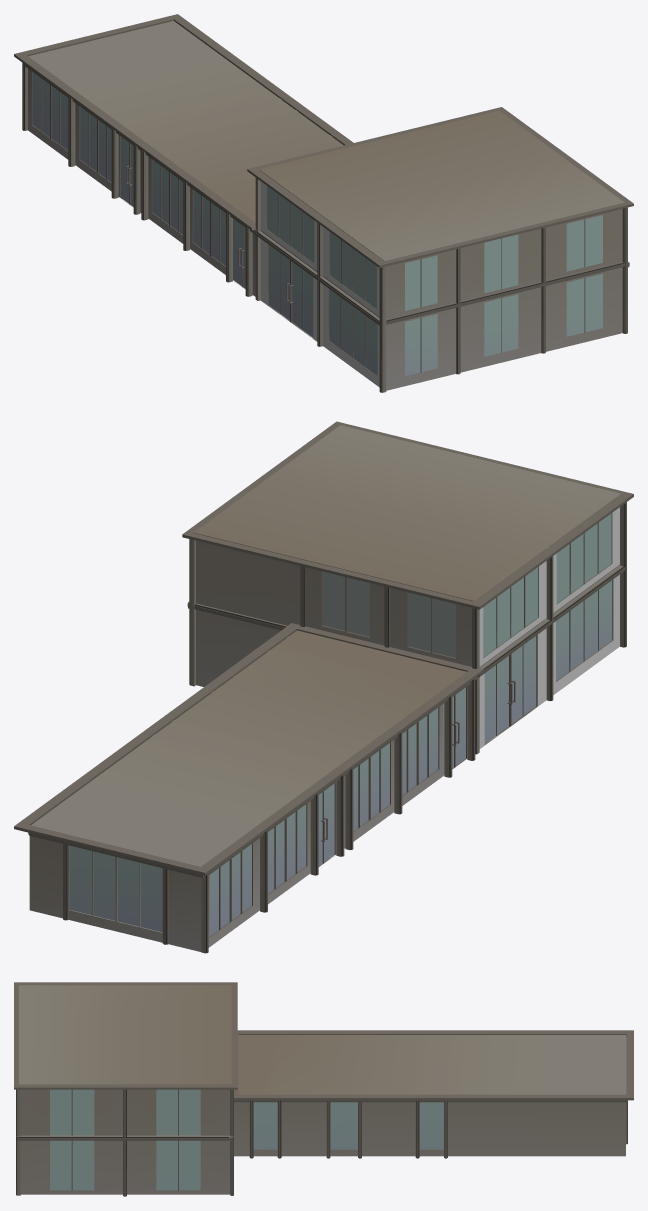
Rendered from Shop.fbx.
3 views of the same model, one above another, from view 1: azimuth 30°, elevation 25°; view 2: azimuth 150°, elevation 25°; view 3: azimuth 270°, elevation 25° (orthographic). The views are drawn at different scales.
Parts seen in each view (by area): view 1: Plane.004; view 2: Plane.004; view 3: Plane.004.
Boxes of the visible parts, <box> form: Plane.004: <box>14,14,633,392</box>; Plane.004: <box>14,421,633,953</box>; Plane.004: <box>14,982,633,1196</box>.
Bounding box in the file's own units: 3356 × 1640 × 8364.
